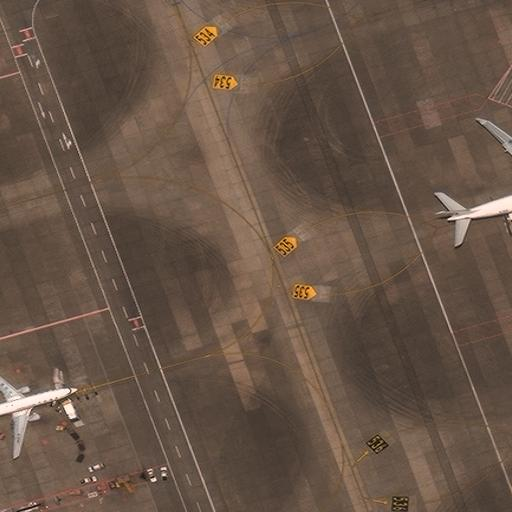Large Civil Transport: (444, 119, 512, 259)
Medium Civil Transport: (0, 365, 77, 457)
